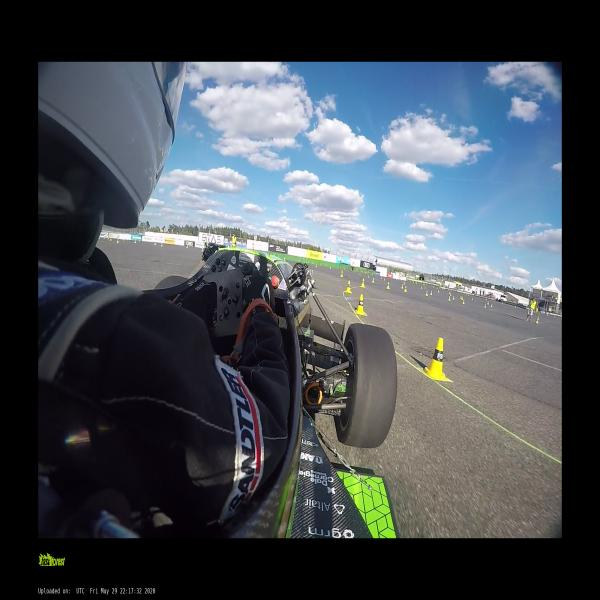yellow_cone: (423, 337, 448, 380), (355, 294, 365, 315), (344, 280, 352, 294), (361, 278, 365, 288), (387, 282, 390, 290), (404, 286, 407, 292), (340, 271, 343, 277), (452, 295, 455, 300), (484, 303, 487, 308), (401, 284, 404, 289), (430, 291, 433, 295), (372, 277, 374, 283), (536, 318, 538, 324), (426, 291, 428, 296), (462, 299, 464, 304), (471, 298, 474, 301), (448, 297, 450, 301), (491, 304, 493, 308), (134, 240, 136, 244), (438, 290, 440, 294), (160, 243, 162, 246), (330, 266, 331, 270), (450, 292, 451, 296), (462, 296, 463, 300)
